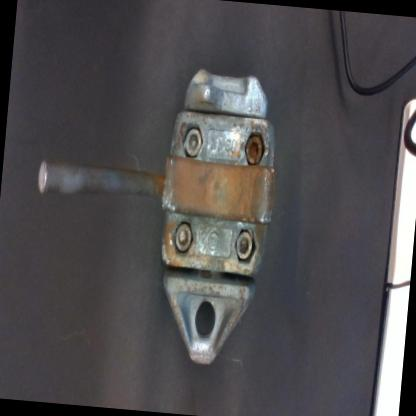Twistlock: (22, 51, 286, 370)
